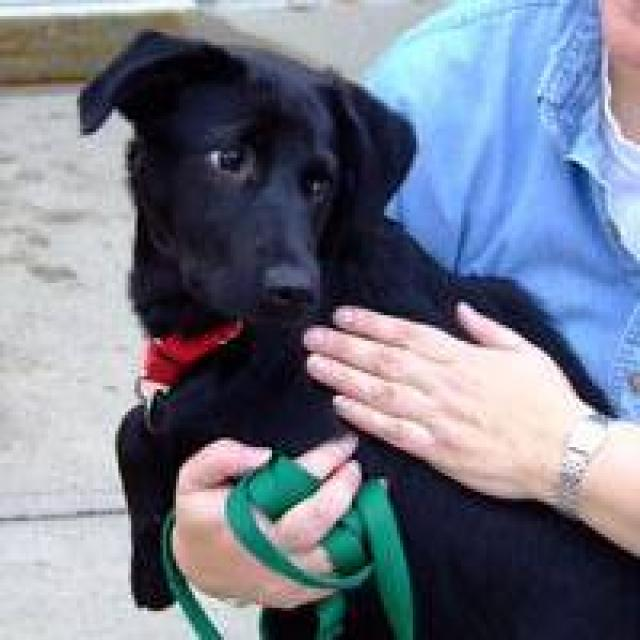dog: (74, 26, 627, 637)
